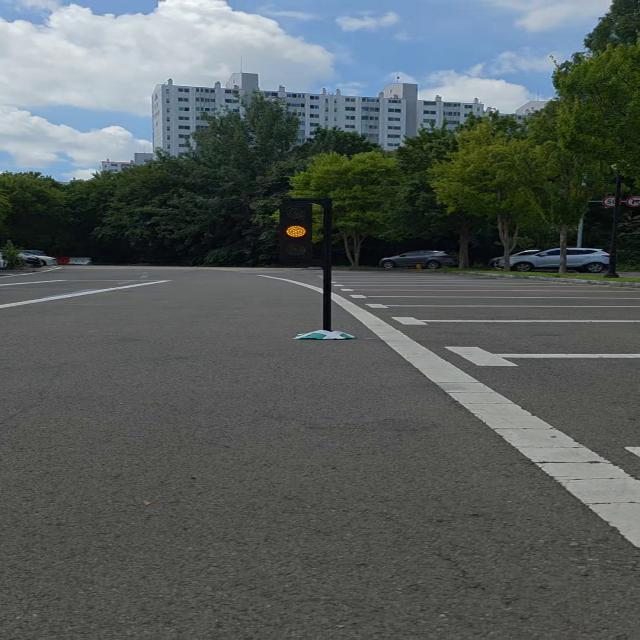yellow: (271, 196, 323, 273)
